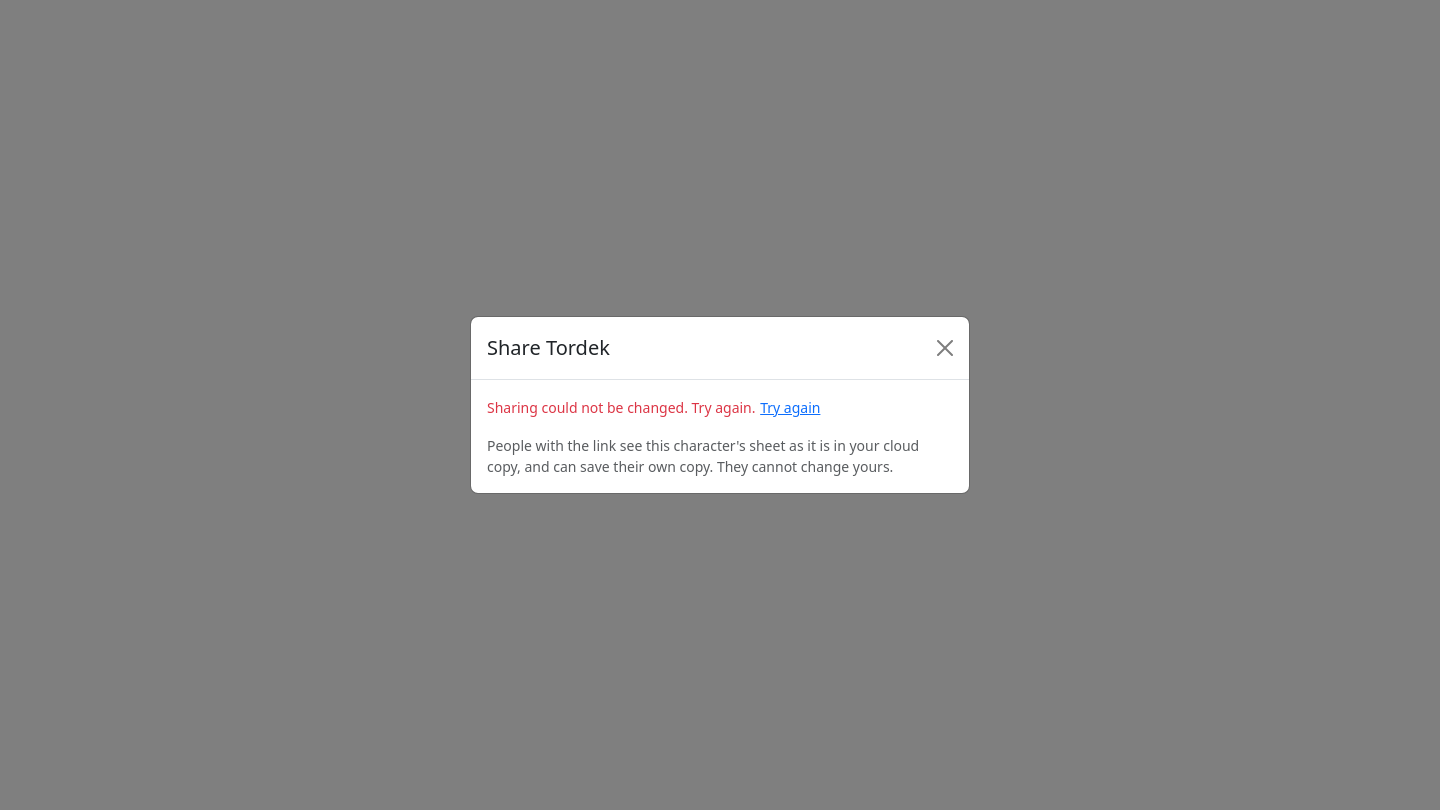
Test: the Share window › offers a retry when it cannot tell whether the character is shared
The image size is (1440, 810).
Expected: the message shows "could not be changed", [487, 398, 756, 417]
Step 1. Click the button "Try again" → (790, 408), box [759, 396, 821, 419]
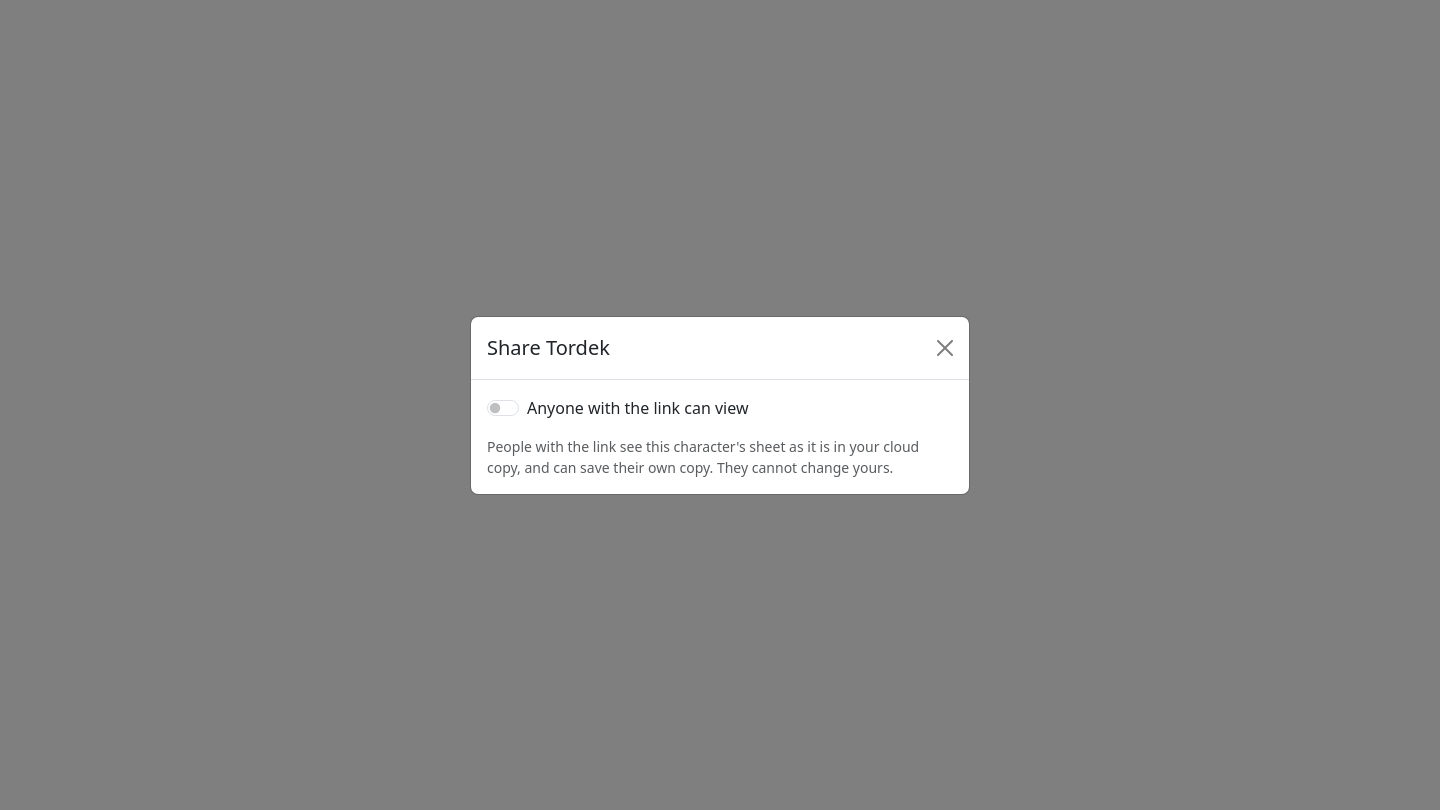
Now the switch is shown, box [487, 400, 519, 416]
